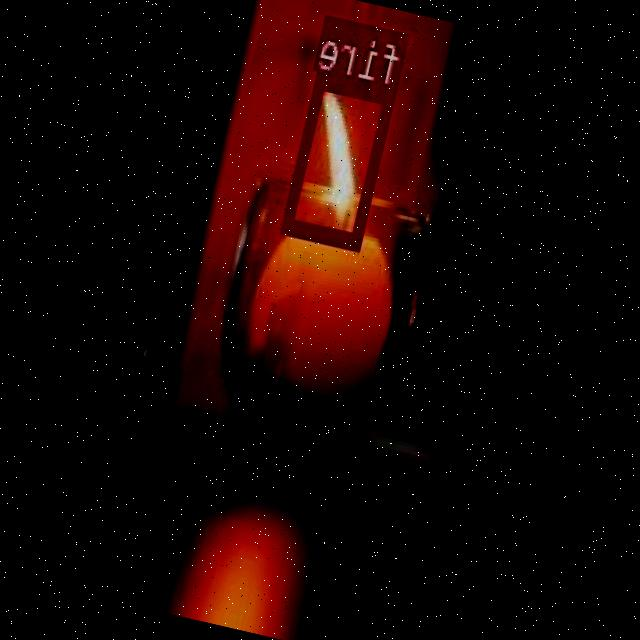fire: (284, 71, 398, 247)
